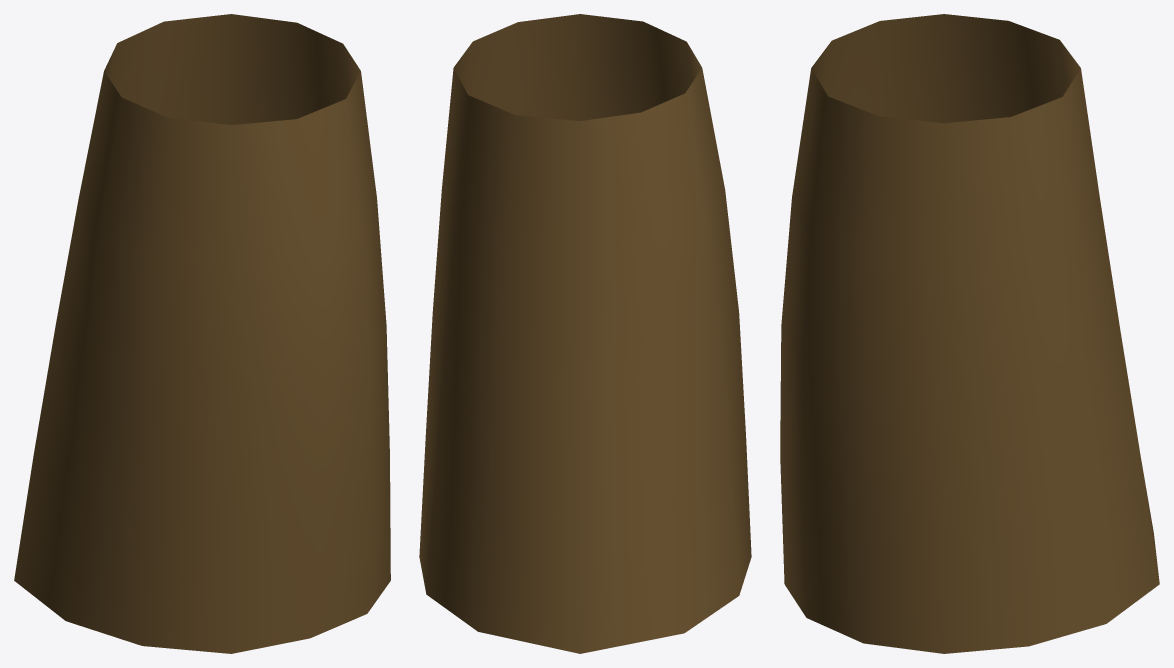
File: mining_outfit_cuisse.R.glb
3 views of the same model, side by side, from view 1: azimuth 30°, elevation 25°; view 2: azimuth 150°, elevation 25°; view 3: azimuth 270°, elevation 25° (orthographic). The views are drawn at different scales.
Visible parts, largest first — view 1: mining_outfit_cuisse.R; view 2: mining_outfit_cuisse.R; view 3: mining_outfit_cuisse.R.
Part boxes in pixels (box(x1,y1,x2,y2)): mining_outfit_cuisse.R: box(14, 14, 390, 653); mining_outfit_cuisse.R: box(419, 14, 751, 653); mining_outfit_cuisse.R: box(780, 14, 1159, 653).
Size of the model in its own units: 0.2329 by 0.37 by 0.2466.
